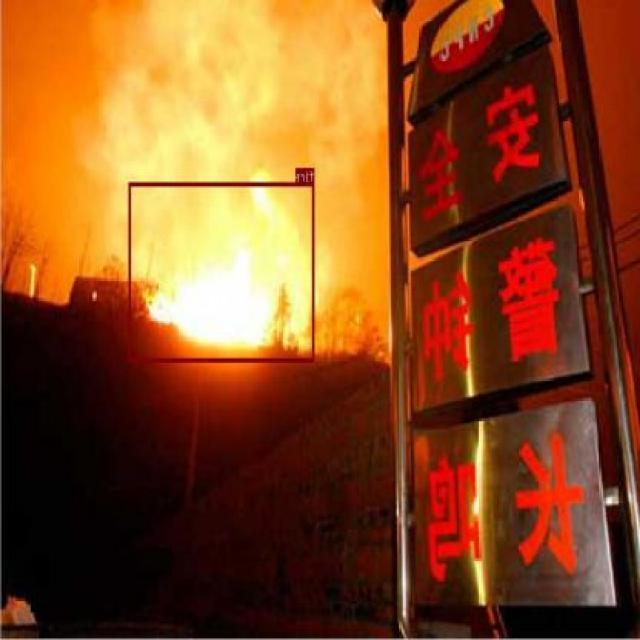Fire: (134, 196, 324, 354)
Smoke: (66, 0, 402, 235)
